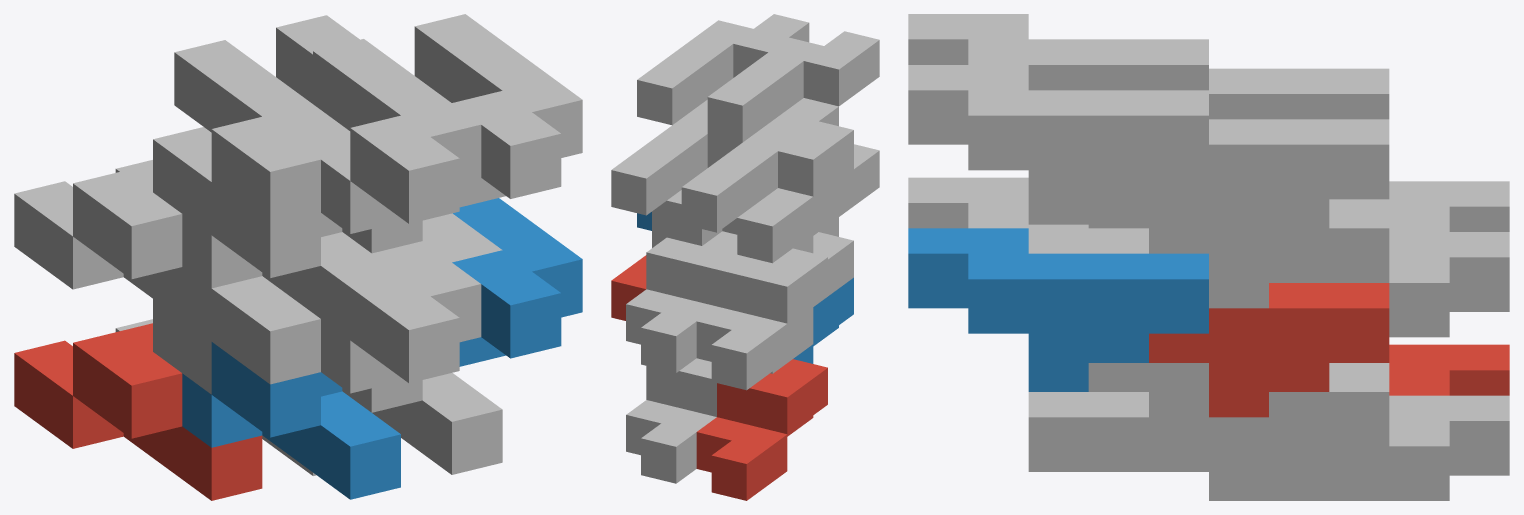
The model's file is tiling.obj.
The picture shows the model from 3 angles, left to right: view 1: azimuth 30°, elevation 25°; view 2: azimuth 150°, elevation 25°; view 3: azimuth 270°, elevation 25°; orthographic projection. The views are drawn at different scales.
Visible parts, largest first — view 1: copy_2_domain_4, copy_2_domain_3, copy_1_domain_1, copy_2_domain_8, copy_1_domain_3, copy_1_domain_2, copy_2_domain_2, copy_1_domain_4, copy_2_domain_6, copy_2_domain_1, copy_1_domain_6, copy_1_domain_8 (+1 smaller); view 2: copy_2_domain_3, copy_2_domain_4, copy_1_domain_3, copy_1_domain_1, copy_1_domain_7, copy_2_domain_8, copy_2_domain_7, copy_1_domain_5, copy_2_domain_1, copy_1_domain_2, copy_1_domain_4, copy_2_domain_2 (+2 smaller); view 3: copy_2_domain_6, copy_2_domain_8, copy_1_domain_5, copy_1_domain_6, copy_2_domain_7, copy_2_domain_5, copy_1_domain_7, copy_2_domain_4, copy_1_domain_8, copy_2_domain_3, copy_2_domain_2, copy_1_domain_1 (+1 smaller).
Boxes of the visible parts, <box> form: copy_2_domain_4: <box>292,39,481,233</box>; copy_2_domain_3: <box>153,40,341,234</box>; copy_1_domain_1: <box>14,323,262,500</box>; copy_2_domain_8: <box>414,14,582,207</box>; copy_1_domain_3: <box>14,164,211,341</box>; copy_1_domain_2: <box>182,342,400,499</box>; copy_2_domain_2: <box>321,241,481,393</box>; copy_1_domain_4: <box>182,182,400,339</box>; copy_2_domain_6: <box>452,198,582,366</box>; copy_2_domain_1: <box>153,276,320,394</box>; copy_1_domain_6: <box>342,373,502,474</box>; copy_1_domain_8: <box>342,213,502,262</box>; copy_2_domain_3: <box>681,121,853,263</box>; copy_2_domain_4: <box>707,31,879,142</box>; copy_1_domain_3: <box>696,248,827,390</box>; copy_1_domain_1: <box>696,359,827,500</box>; copy_1_domain_7: <box>626,231,737,372</box>; copy_2_domain_8: <box>637,14,809,125</box>; copy_2_domain_7: <box>611,110,742,245</box>; copy_1_domain_5: <box>626,358,716,483</box>; copy_2_domain_1: <box>770,232,853,373</box>; copy_1_domain_2: <box>793,277,853,363</box>; copy_1_domain_4: <box>793,167,853,253</box>; copy_2_domain_2: <box>819,144,879,236</box>; copy_2_domain_6: <box>908,228,1208,388</box>; copy_2_domain_8: <box>908,65,1208,224</box>; copy_1_domain_5: <box>1209,363,1509,500</box>; copy_1_domain_6: <box>1028,363,1329,471</box>; copy_2_domain_7: <box>1149,119,1389,253</box>; copy_2_domain_5: <box>1149,283,1389,417</box>; copy_1_domain_7: <box>1329,199,1509,337</box>; copy_2_domain_4: <box>908,14,1208,90</box>; copy_1_domain_8: <box>1028,199,1329,308</box>; copy_2_domain_3: <box>1209,68,1389,119</box>; copy_2_domain_2: <box>908,177,1088,228</box>; copy_1_domain_1: <box>1389,344,1509,395</box>.
Bounding box in the file's own units: 6 × 8 × 10.
